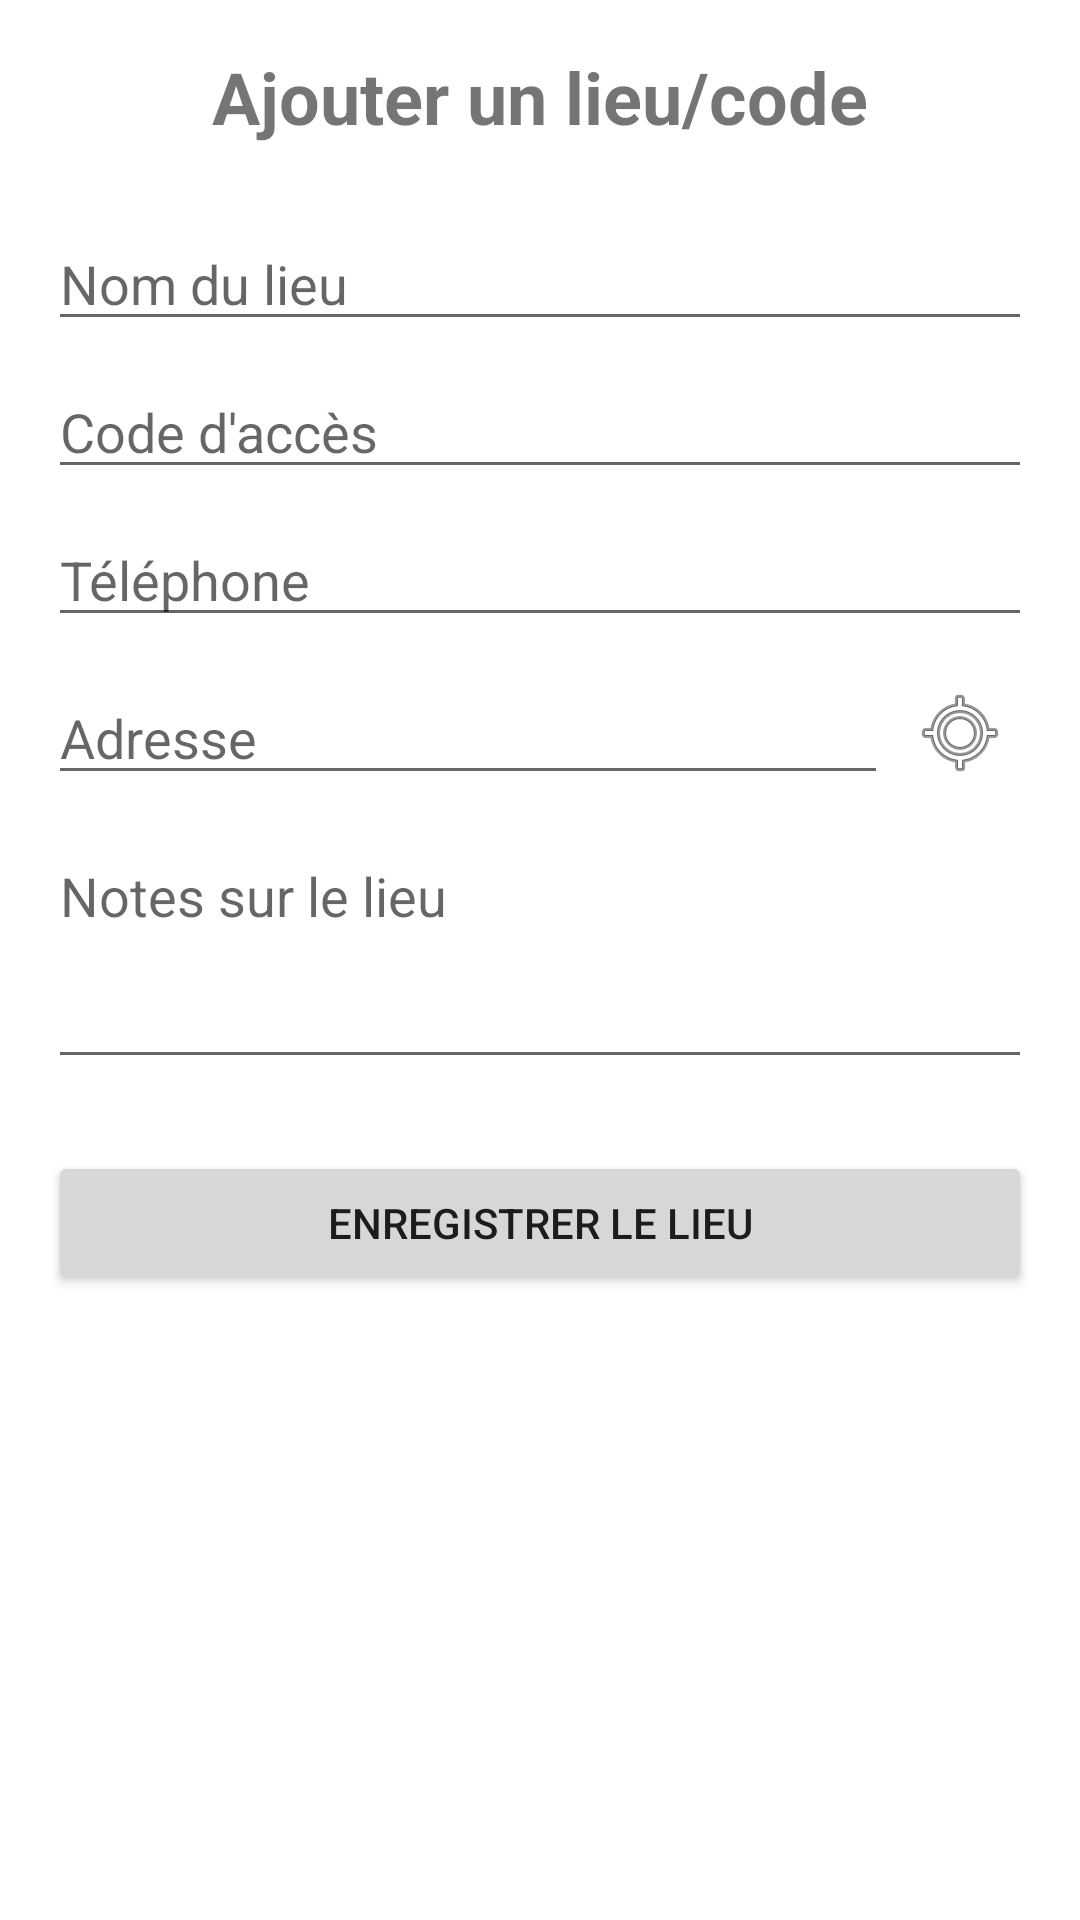

Where to tap for icons on this 1080 × 1920 app screen, as (x=x, y=y):
GPS: (x=960, y=733)
